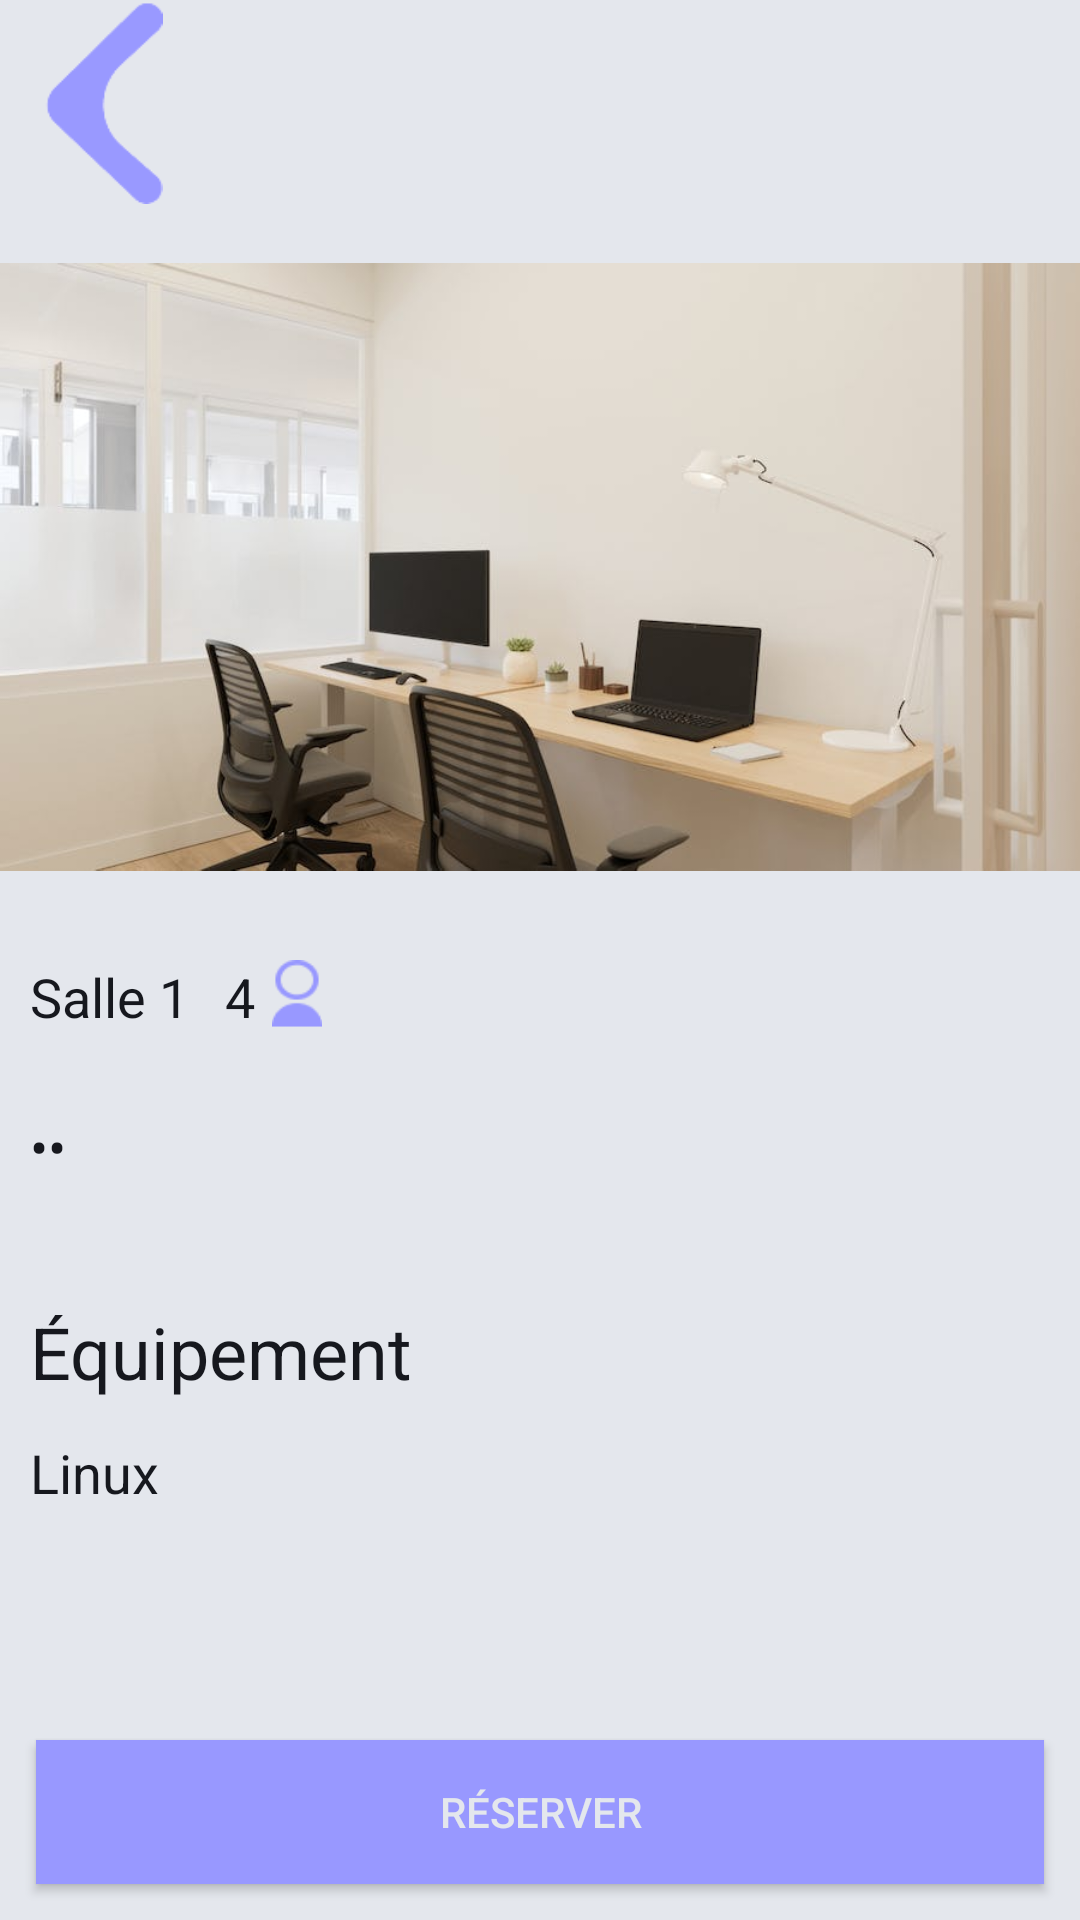

Icon click points for this 1080 × 1920 phone screenshot, format point (x, y):
retour: point (105, 103)
